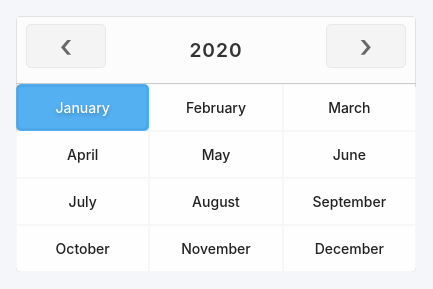
MonthPicker – year navigation › increments the displayed year
Click the button "›" at (366, 46), box x1=326 y1=24 x2=406 y2=68
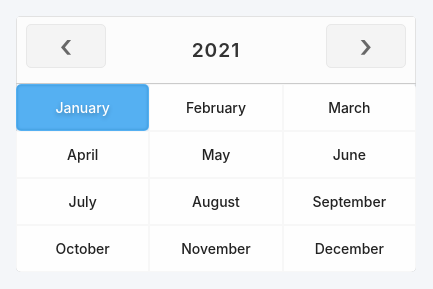
Check: the text "2021" is shown, box x1=192 y1=38 x2=240 y2=62
